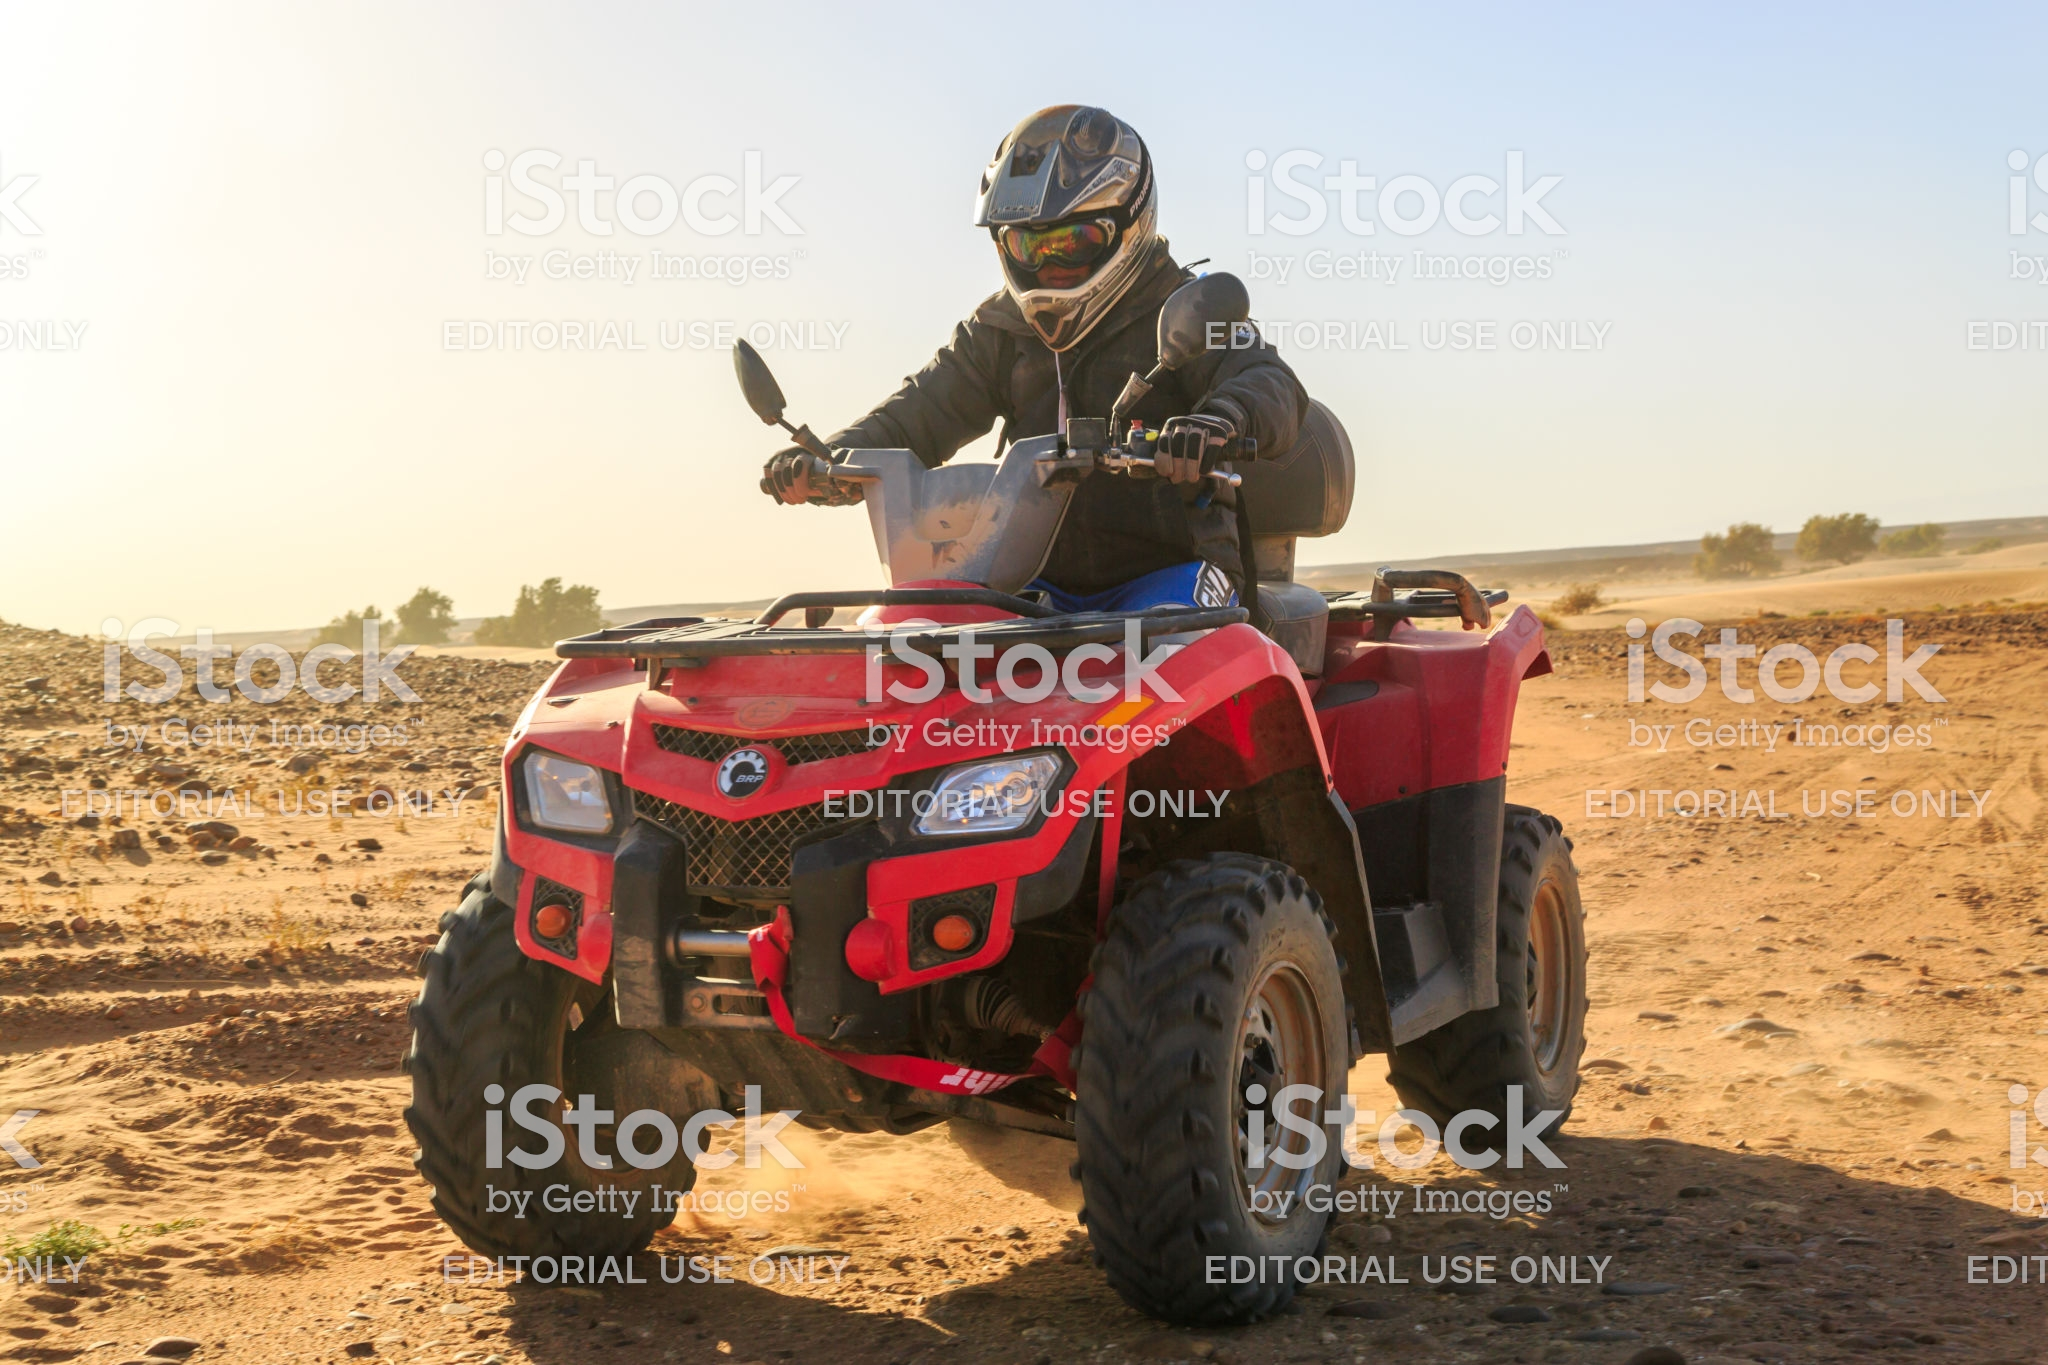helmet: (965, 107, 1169, 337)
